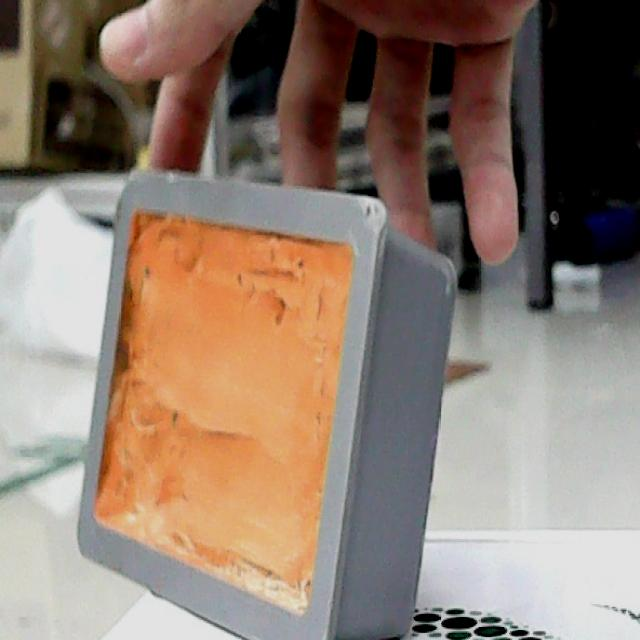block: (66, 161, 465, 640)
